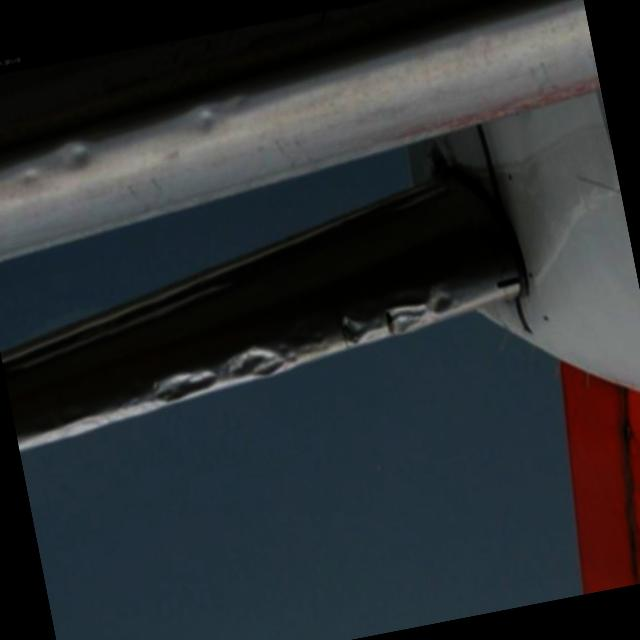dent: (375, 273, 463, 339), (141, 356, 234, 418), (221, 334, 295, 394), (53, 135, 92, 179), (188, 101, 222, 141), (337, 313, 370, 352)
